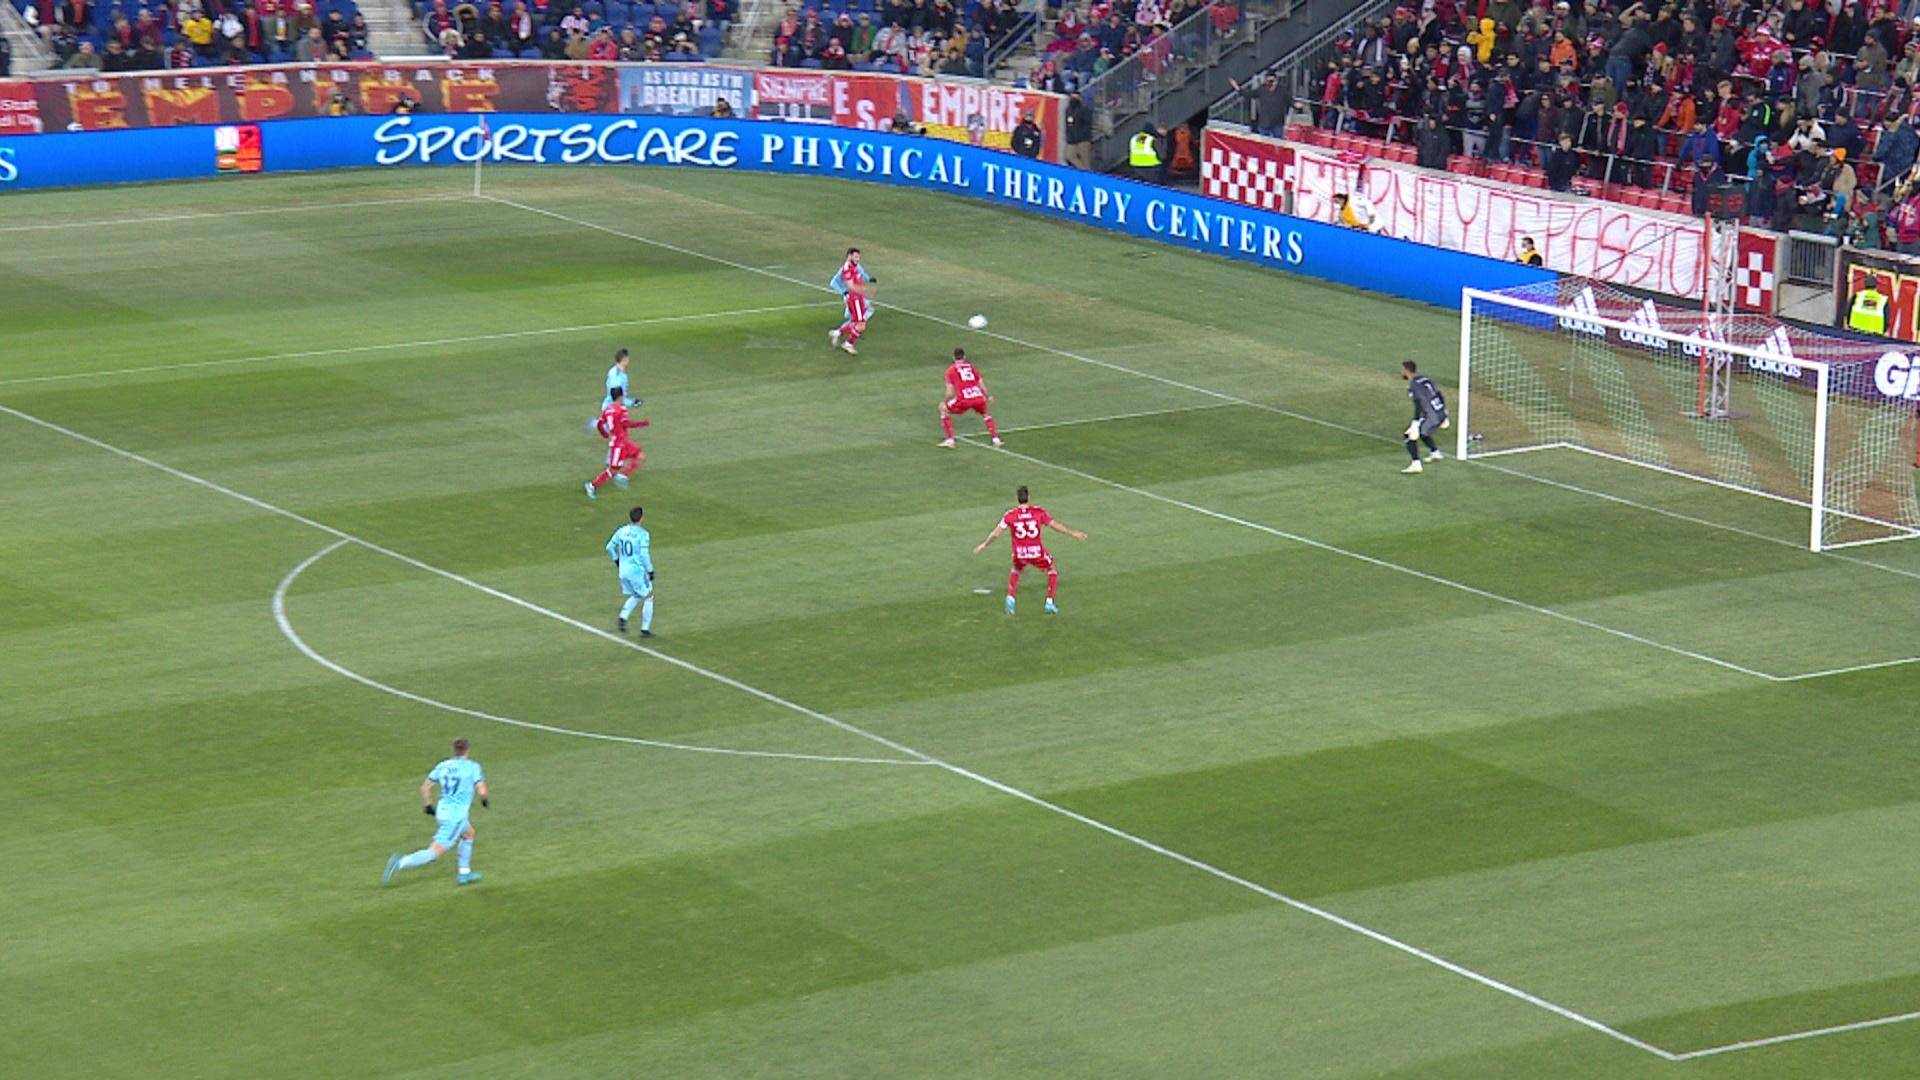football: (968, 314, 990, 330)
